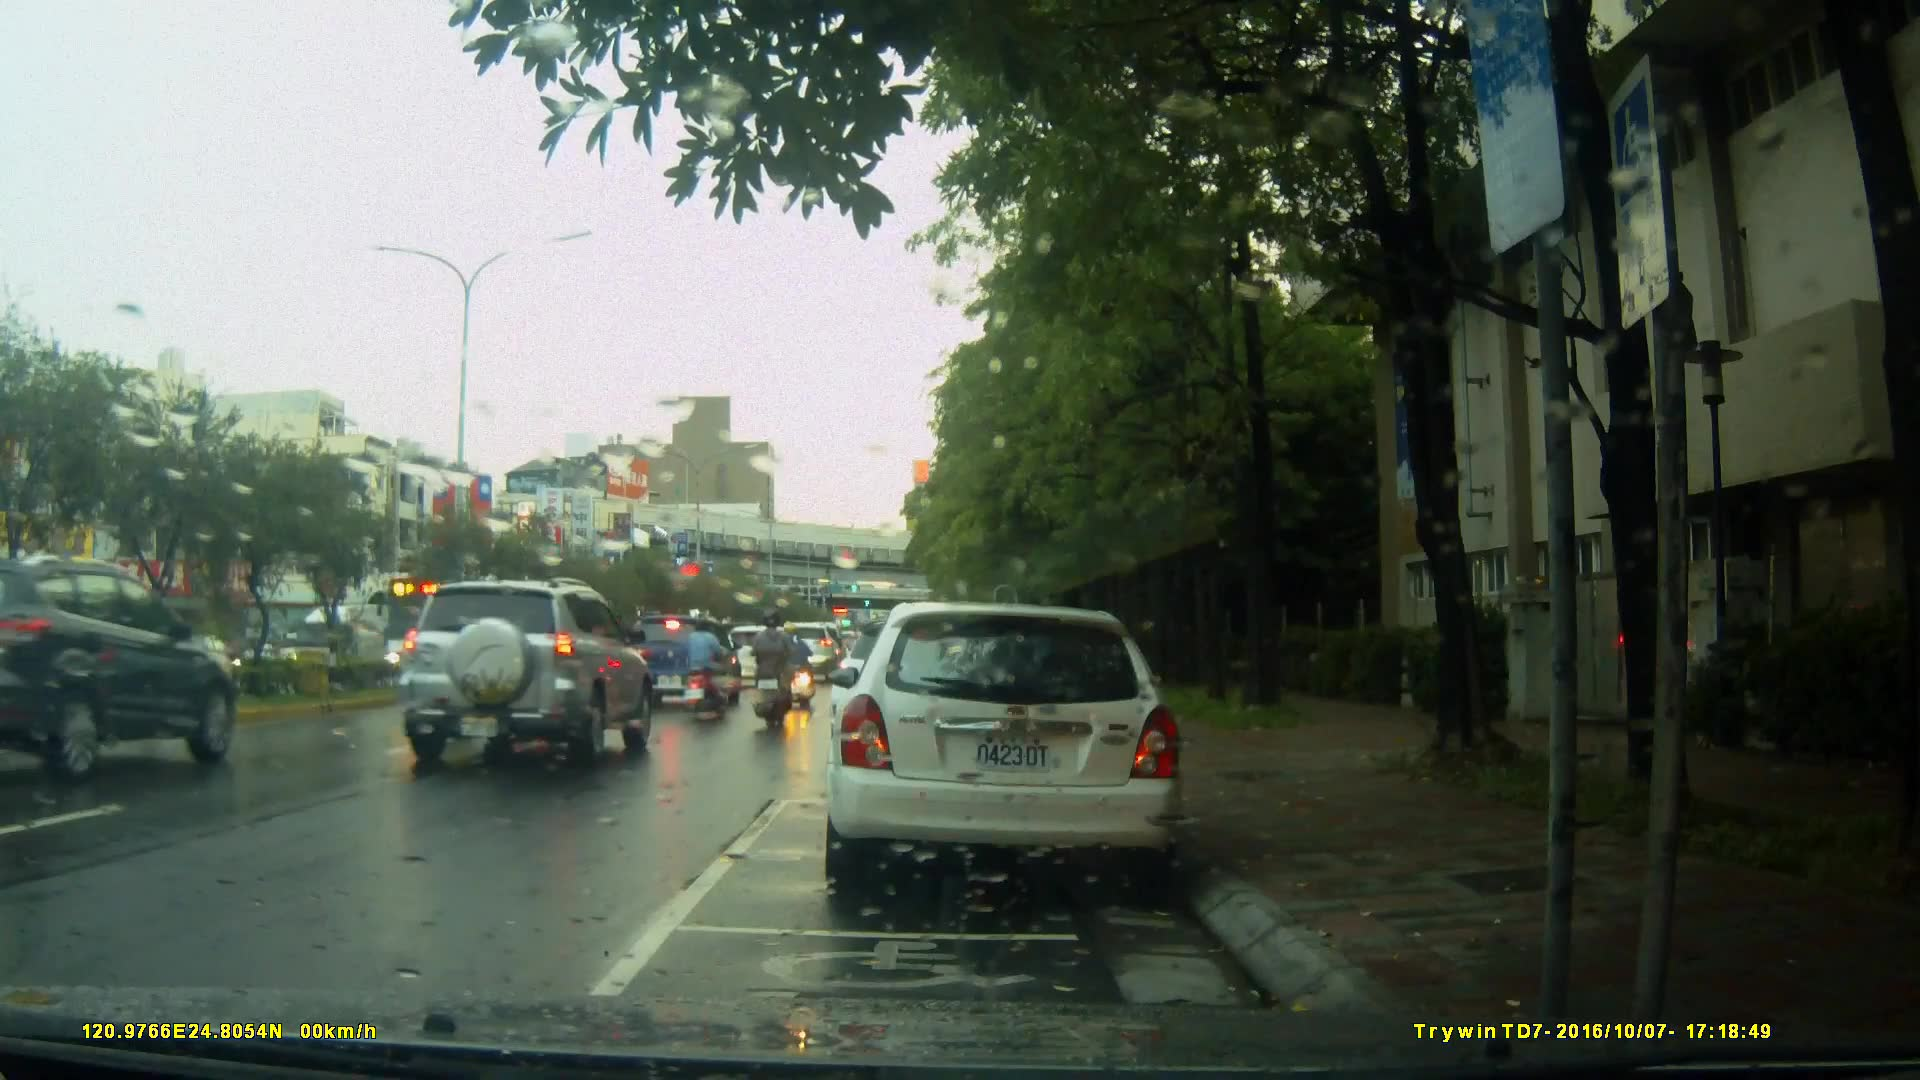rider: (745, 607, 795, 729), (686, 618, 730, 719), (777, 621, 816, 712)
vehicle: (820, 602, 1188, 898), (1, 553, 240, 780), (387, 575, 655, 767), (623, 613, 747, 710)
